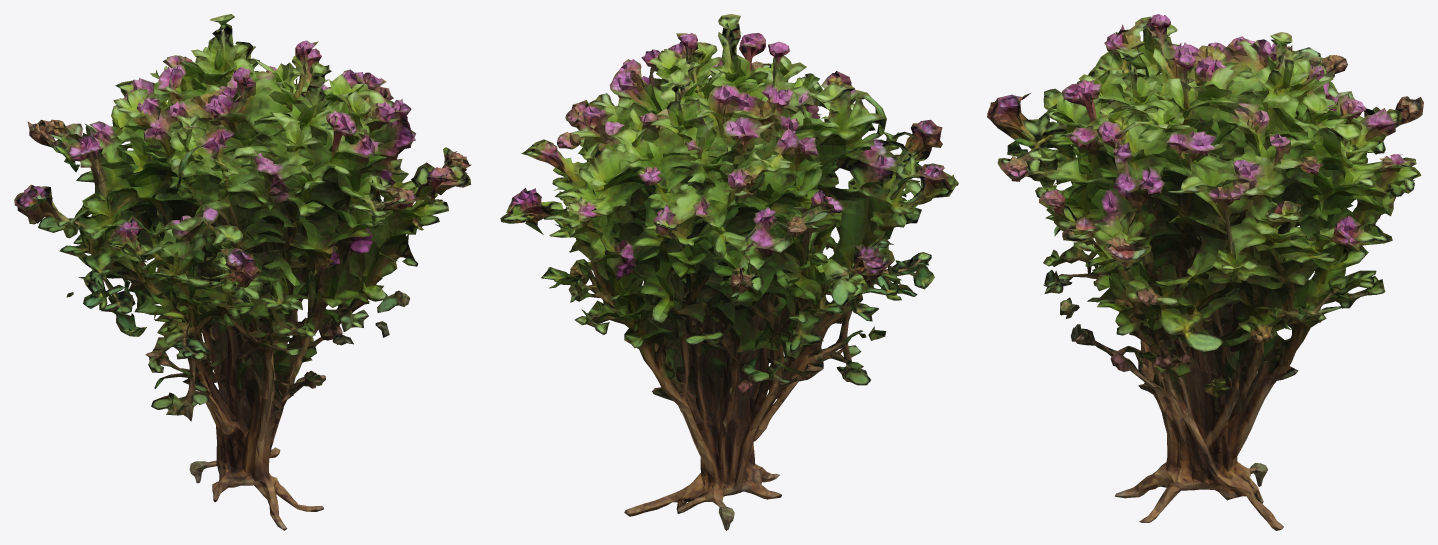
The model's file is Oregano.glb.
3 views of the same model, side by side, from view 1: azimuth 30°, elevation 25°; view 2: azimuth 150°, elevation 25°; view 3: azimuth 270°, elevation 25° (orthographic). The views are drawn at different scales.
Parts seen in each view (by area): view 1: world; view 2: world; view 3: world.
Boxes of the visible parts, <box> form: world: <box>14,14,471,530</box>; world: <box>500,14,958,530</box>; world: <box>987,14,1423,530</box>.
Size of the model in its own units: 0.8606 by 0.9959 by 0.8291.
1 material, 1 textured.
